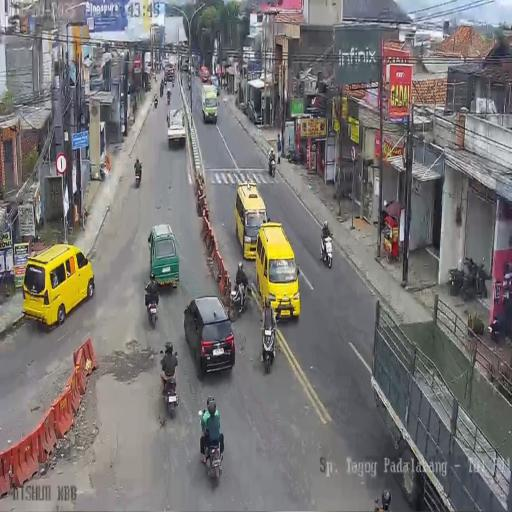car: (22, 242, 94, 329), (256, 221, 300, 319), (184, 298, 236, 378), (235, 180, 267, 258), (148, 224, 179, 288), (166, 107, 186, 146), (201, 87, 218, 123), (210, 76, 220, 96), (200, 65, 210, 83), (180, 58, 188, 72), (162, 52, 169, 66), (189, 64, 194, 74)
motorcycle: (198, 416, 224, 482), (260, 307, 278, 373), (160, 358, 179, 418), (230, 274, 251, 319), (491, 300, 511, 340), (144, 284, 160, 328), (320, 230, 333, 270), (285, 144, 302, 164), (268, 153, 276, 177), (134, 166, 141, 188), (157, 60, 163, 74), (159, 81, 164, 97), (166, 93, 171, 106), (187, 76, 191, 91), (154, 94, 158, 109), (195, 65, 199, 76)
truck: (144, 50, 152, 80), (164, 62, 174, 85)
